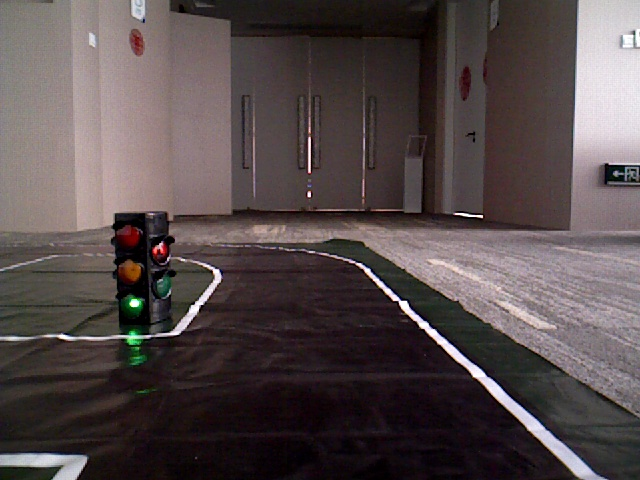green: (109, 215, 154, 322)
